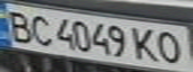0: (69, 18, 93, 53)
4: (48, 16, 75, 51), (87, 20, 112, 56)
9: (106, 22, 130, 60)
B: (0, 7, 36, 43)
C: (24, 12, 57, 47)
K: (130, 25, 160, 63)
O: (151, 29, 187, 65)
